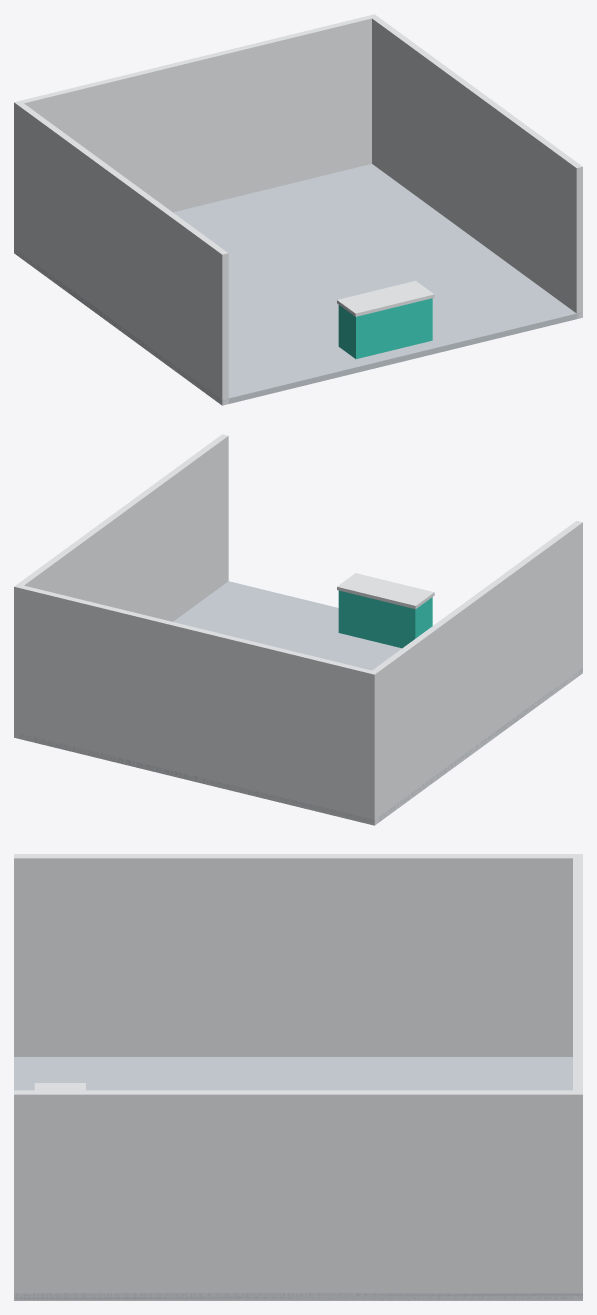
3 renders of one model, top to bottom at view 1: azimuth 30°, elevation 25°; view 2: azimuth 150°, elevation 25°; view 3: azimuth 270°, elevation 25°, orthographic. The views are drawn at different scales.
Visible parts, largest first — view 1: Exhibition Booth Concept; view 2: Exhibition Booth Concept; view 3: Exhibition Booth Concept.
Boxes of the visible parts, x1,y1,x2,y2 form: Exhibition Booth Concept: (14, 14, 582, 405); Exhibition Booth Concept: (14, 434, 582, 825); Exhibition Booth Concept: (14, 854, 582, 1300).
Bounding box in the file's own units: 8 × 3.2 × 8.
